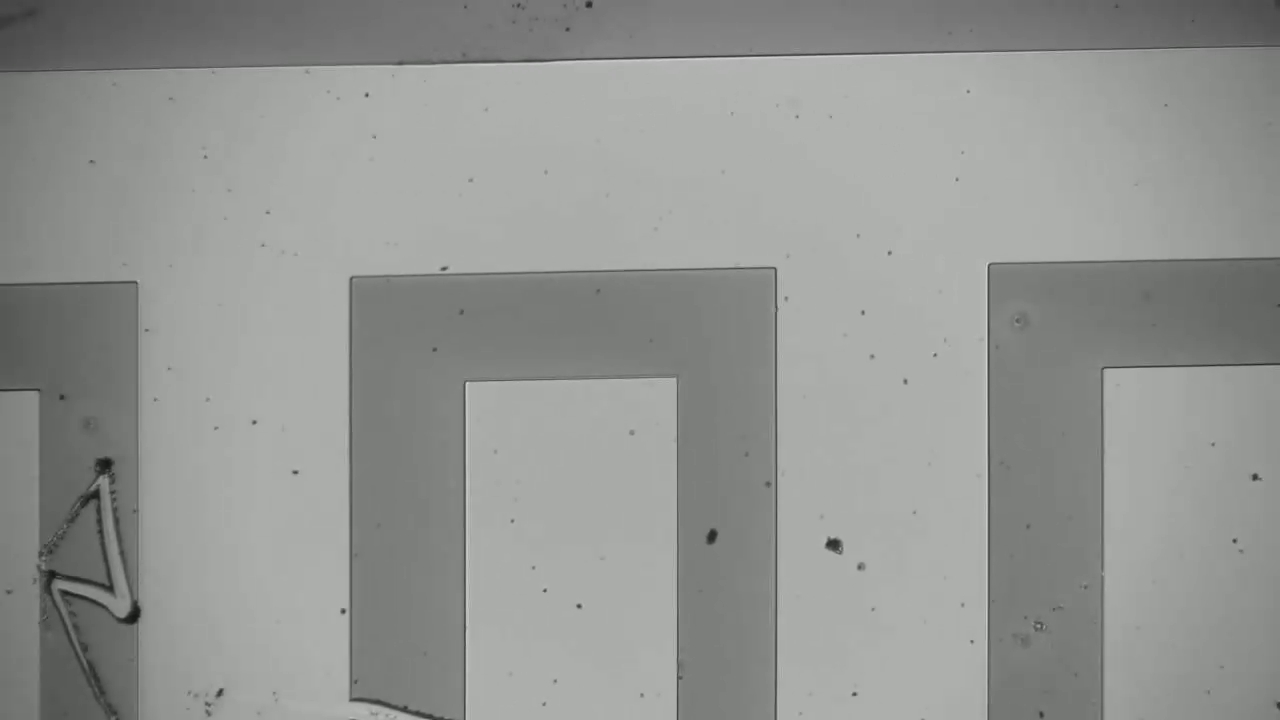Short_circuit: (23, 560, 153, 638)
